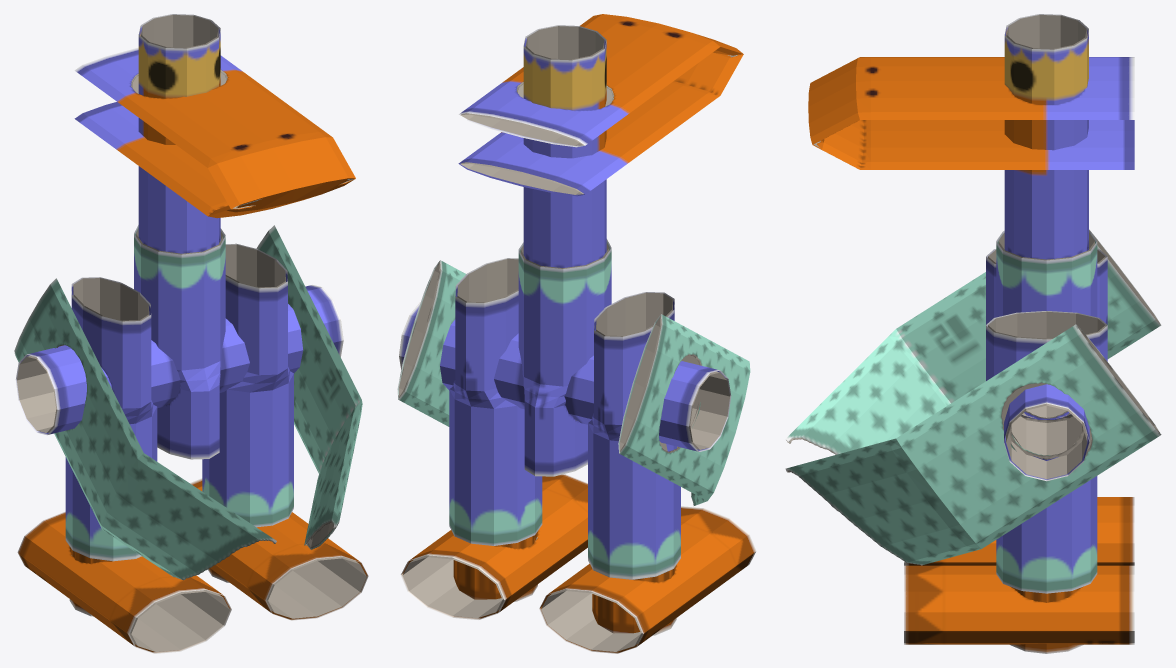
Rendered from bill.glb.
3 views of the same model, side by side, from view 1: azimuth 30°, elevation 25°; view 2: azimuth 150°, elevation 25°; view 3: azimuth 270°, elevation 25° (orthographic). The views are drawn at different scales.
Parts seen in each view (by area): view 1: P41 短冊4-1, P54 短冊4-7, P48 短冊4-4, P44 短冊4-2, P50 短冊4-5, P46 短冊4-3, P56 短冊4-8, P59 短冊5-1, P61 短冊5-2, P52 短冊4-6; view 2: P41 短冊4-1, P48 短冊4-4, P46 短冊4-3, P44 短冊4-2, P59 短冊5-1, P50 短冊4-5, P52 短冊4-6, P54 短冊4-7, P61 短冊5-2, P56 短冊4-8, P63 短冊5-4, P62 短冊5-3; view 3: P56 短冊4-8, P41 短冊4-1, P54 短冊4-7, P59 短冊5-1, P52 短冊4-6, P48 短冊4-4, P44 短冊4-2, P61 短冊5-2, P50 短冊4-5, P46 短冊4-3, P63 短冊5-4.
Boxes of the visible parts, bbox=[...] form: P41 短冊4-1: bbox=[74, 47, 355, 218]; P54 短冊4-7: bbox=[14, 278, 276, 580]; P48 短冊4-4: bbox=[202, 243, 293, 527]; P44 短冊4-2: bbox=[134, 225, 225, 459]; P50 短冊4-5: bbox=[17, 511, 231, 653]; P46 短冊4-3: bbox=[65, 277, 157, 561]; P56 短冊4-8: bbox=[256, 225, 362, 549]; P59 短冊5-1: bbox=[138, 14, 220, 253]; P61 短冊5-2: bbox=[15, 285, 343, 434]; P52 短冊4-6: bbox=[190, 478, 368, 620]; P41 短冊4-1: bbox=[458, 14, 743, 196]; P48 短冊4-4: bbox=[449, 258, 542, 545]; P46 短冊4-3: bbox=[588, 292, 680, 579]; P44 短冊4-2: bbox=[518, 239, 611, 476]; P59 短冊5-1: bbox=[523, 25, 606, 267]; P50 短冊4-5: bbox=[539, 506, 756, 653]; P52 短冊4-6: bbox=[401, 474, 587, 619]; P54 短冊4-7: bbox=[618, 314, 750, 505]; P61 短冊5-2: bbox=[399, 302, 731, 451]; P56 短冊4-8: bbox=[397, 260, 465, 426]; P63 短冊5-4: bbox=[453, 531, 537, 601]; P62 短冊5-3: bbox=[592, 565, 676, 635]; P56 短冊4-8: bbox=[785, 324, 1161, 565]; P41 短冊4-1: bbox=[808, 57, 1134, 169]; P54 短冊4-7: bbox=[785, 229, 1161, 454]; P59 短冊5-1: bbox=[1004, 14, 1088, 259]; P52 短冊4-6: bbox=[904, 565, 1134, 644]; P48 短冊4-4: bbox=[986, 311, 1107, 593]; P44 短冊4-2: bbox=[996, 230, 1097, 419]; P61 短冊5-2: bbox=[1004, 384, 1089, 481]; P50 短冊4-5: bbox=[904, 497, 1134, 565]; P46 短冊4-3: bbox=[986, 249, 1107, 324]; P63 短冊5-4: bbox=[1010, 586, 1083, 653].
Size of the model in its own units: 0.031 by 0.0572 by 0.0342.
Materials: 24 (24 with a texture image).
